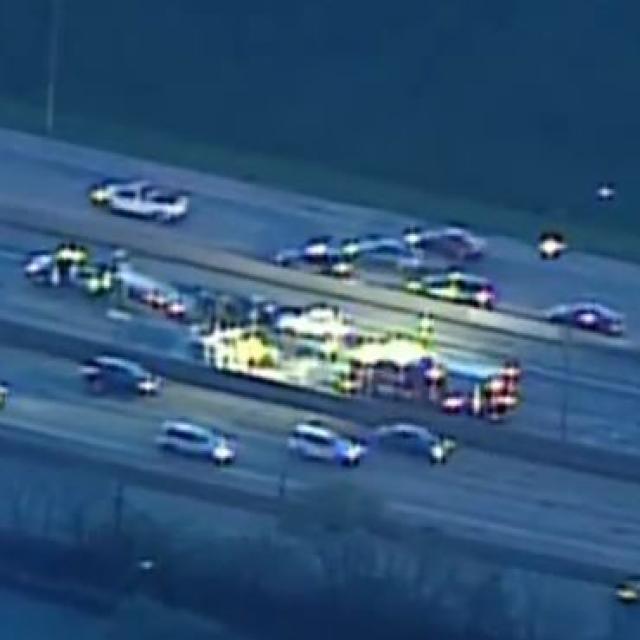traffic_incident: (178, 281, 490, 406)
